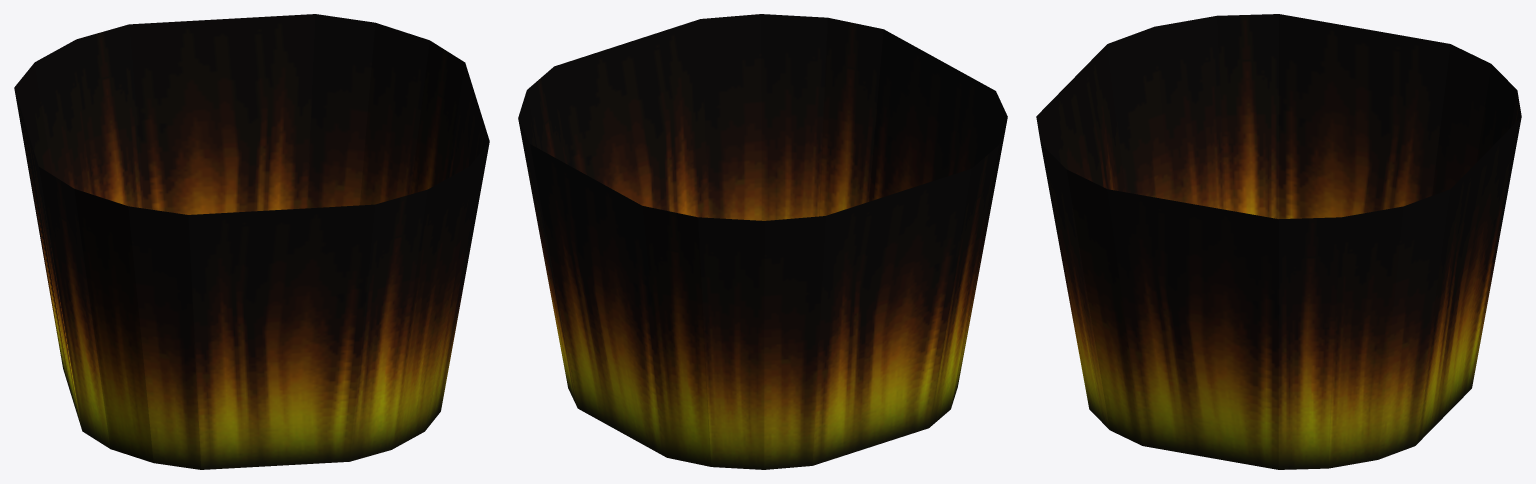
Rendered from cs_chengshi_guoluguang_002.FBX.
The picture shows the model from 3 angles, left to right: view 1: azimuth 30°, elevation 25°; view 2: azimuth 150°, elevation 25°; view 3: azimuth 270°, elevation 25°; orthographic projection. The views are drawn at different scales.
Visible parts, largest first — view 1: cs_chengshi_guoluguang_002; view 2: cs_chengshi_guoluguang_002; view 3: cs_chengshi_guoluguang_002.
Part boxes in pixels (left/top/right/bottom): cs_chengshi_guoluguang_002: left=14, top=14, right=489, bottom=469; cs_chengshi_guoluguang_002: left=518, top=14, right=1007, bottom=469; cs_chengshi_guoluguang_002: left=1036, top=14, right=1521, bottom=469.
Bounding box in the file's own units: 70.11 × 70.11 × 43.32.
